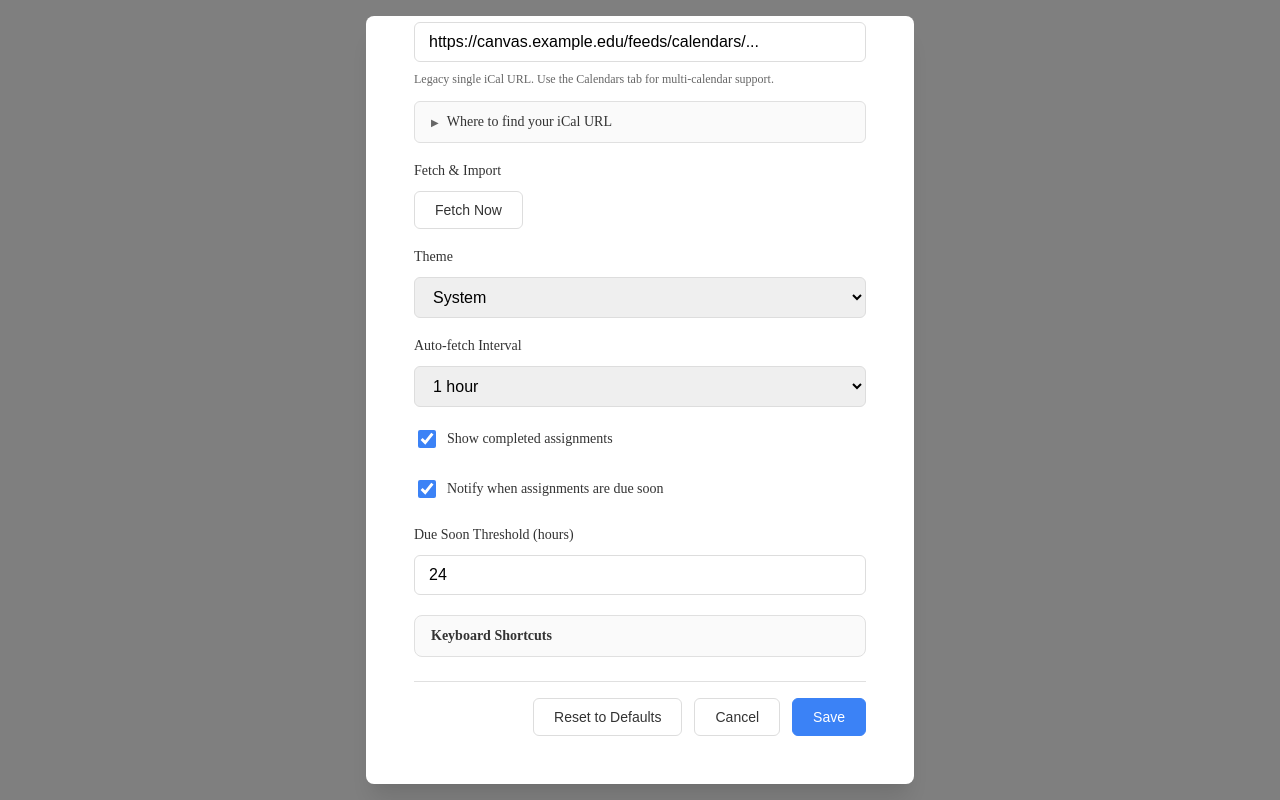
Test: SettingsModal › Save Button › shows error on save failure
The width and height of the screenshot is (1280, 800).
(page scrolled)
Expected: the dialog is shown, [366,16,914,784]
Expected: the dropdown labelled "Theme" shows "System", [414,277,866,318]
What coordinates should you click on to do the following:
click the button "Save"
I would click on:
 (829, 717)
Its box is [792,698,866,736].
(page scrolled)
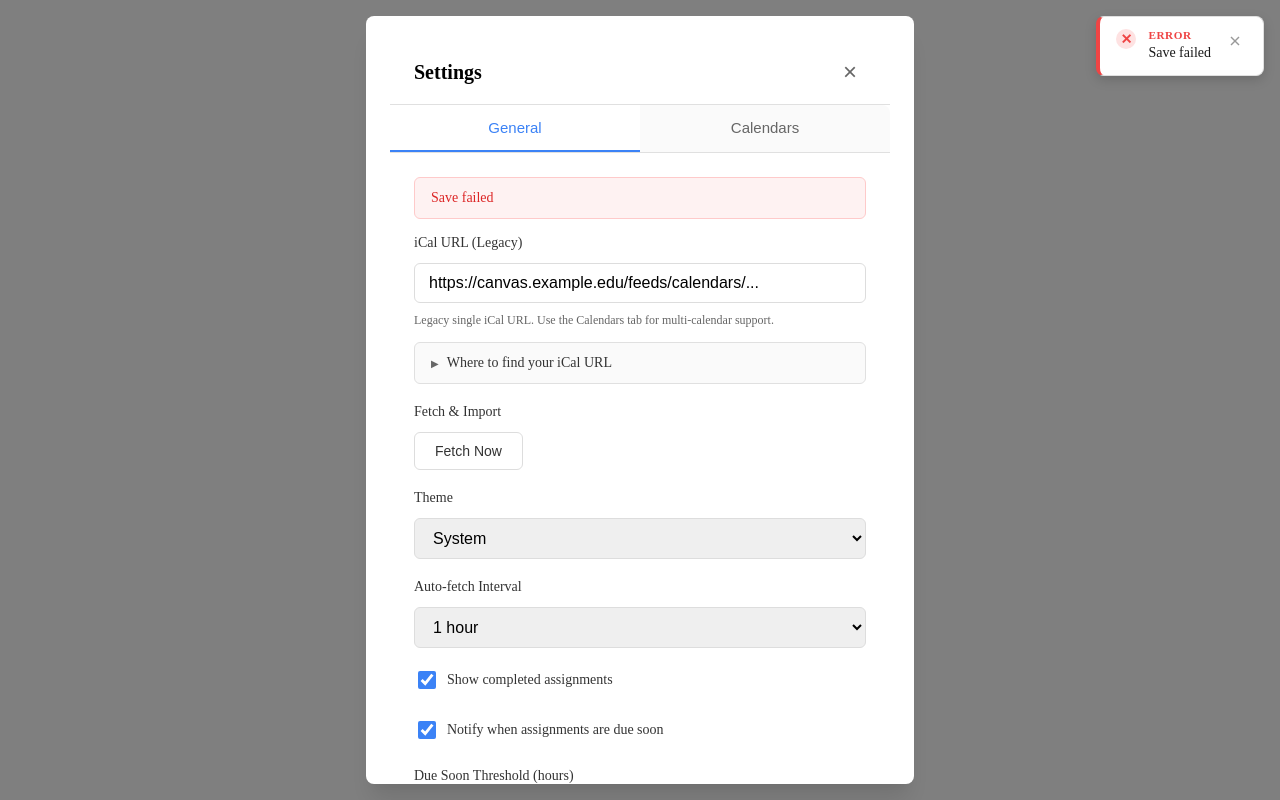
Expected: the text "Save failed" is shown, [414,177,866,219]
